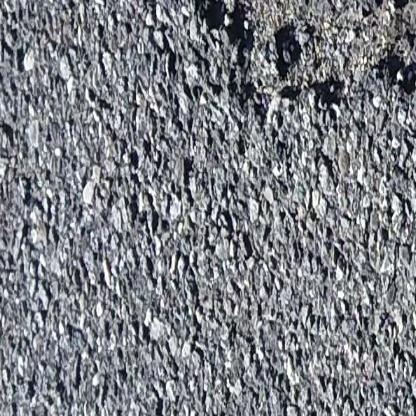Cracks: (155, 0, 349, 130), (361, 0, 416, 111)
